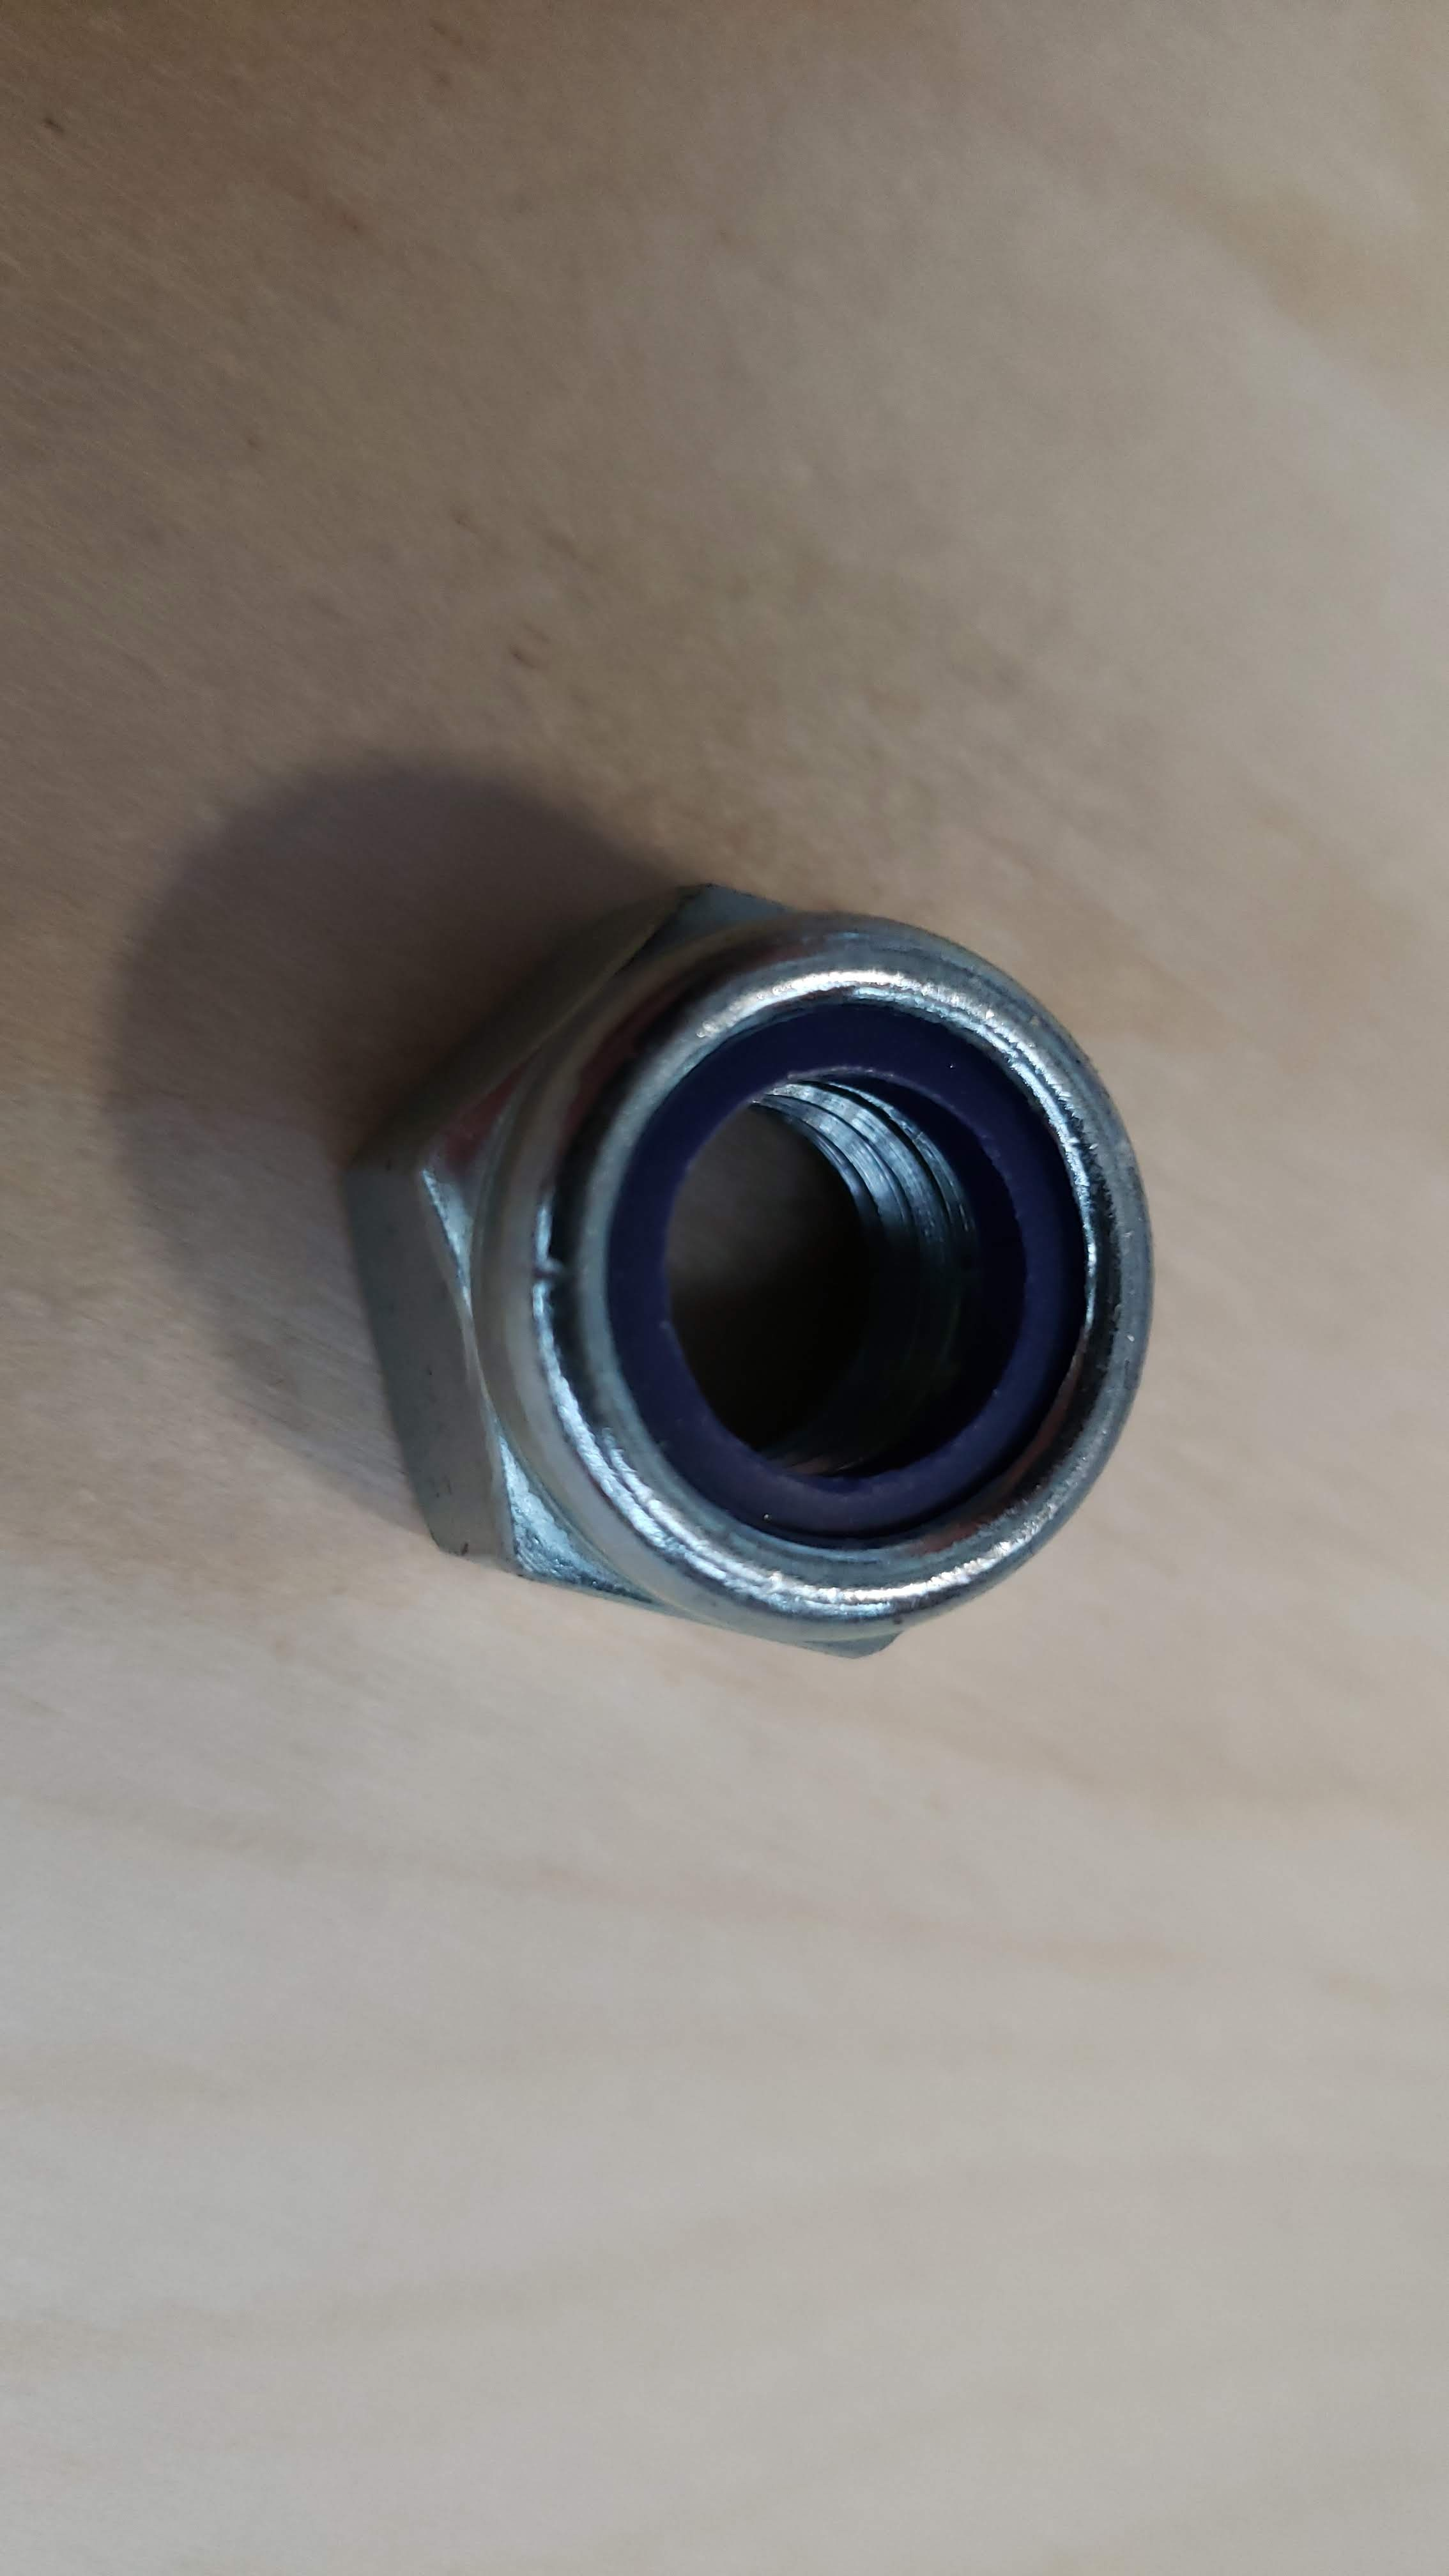Nut: (143, 754, 1306, 1778)
